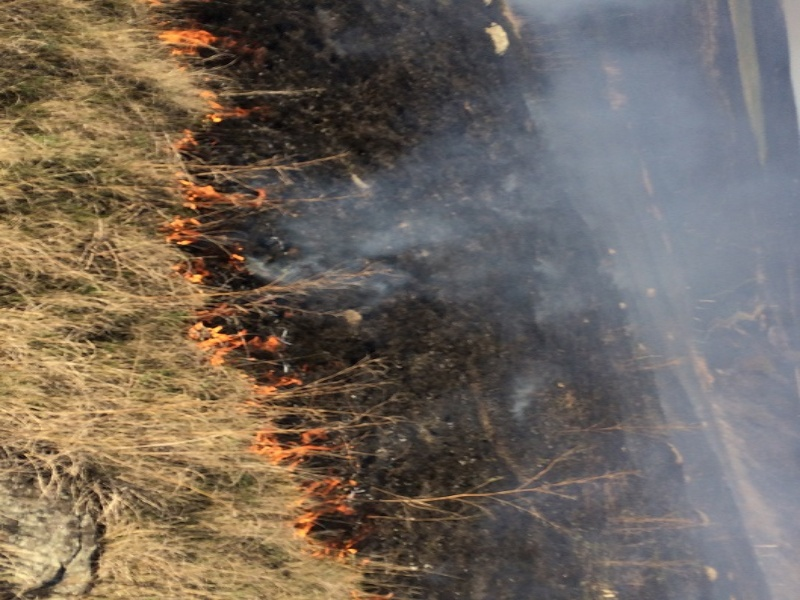smoke: (294, 168, 713, 315)
